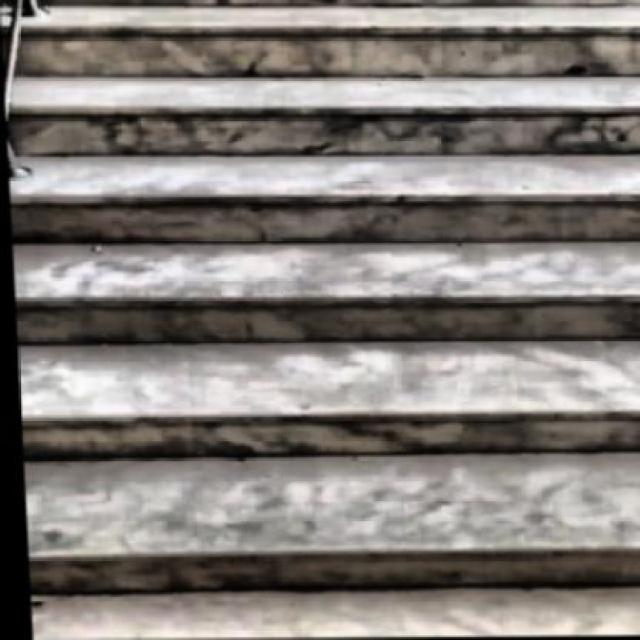stair: (0, 0, 638, 624)
